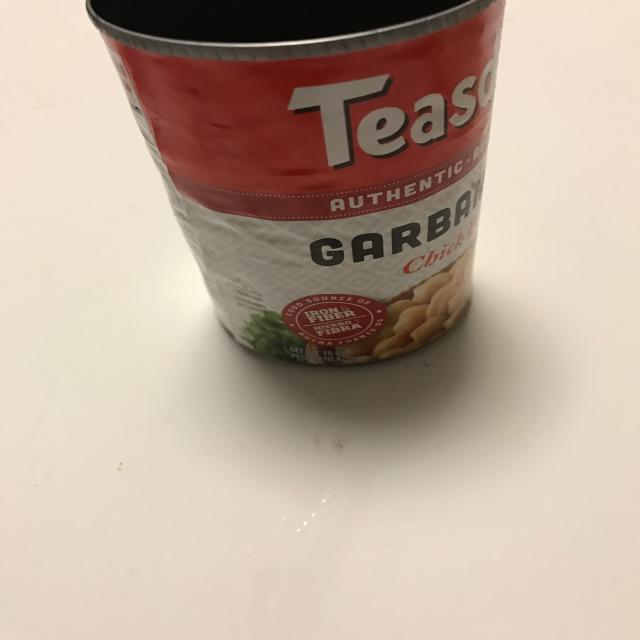metal: (84, 0, 507, 368)
